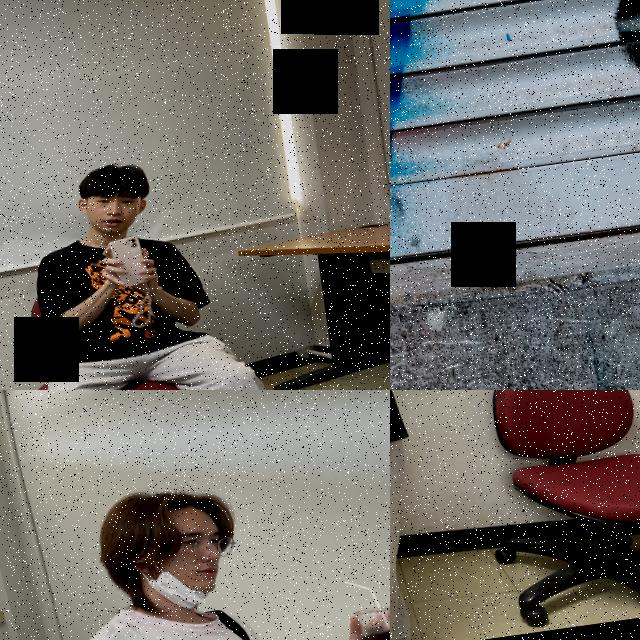cup: (352, 602, 390, 640)
